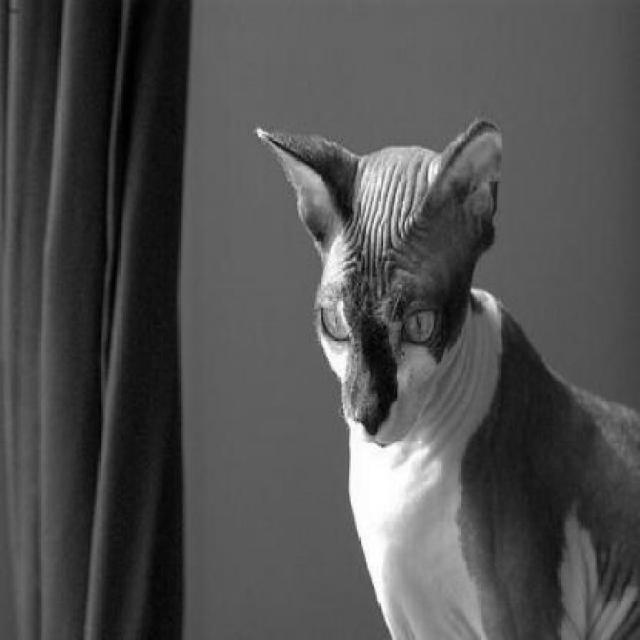Cat: (253, 114, 639, 638)
